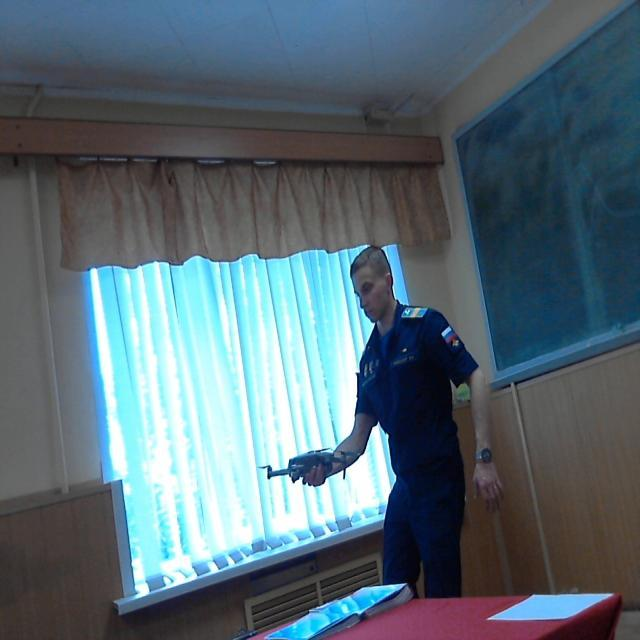drone: (255, 433, 363, 498)
